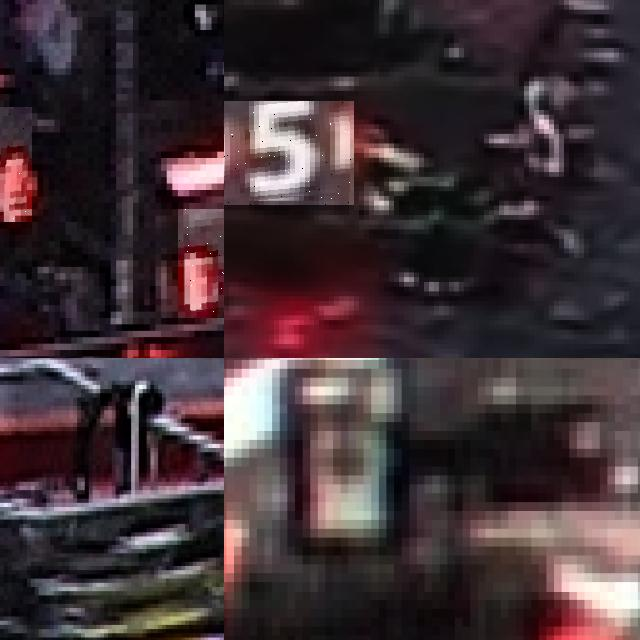R1: (177, 209, 224, 318), (0, 107, 31, 222)
R5: (224, 100, 354, 205)
